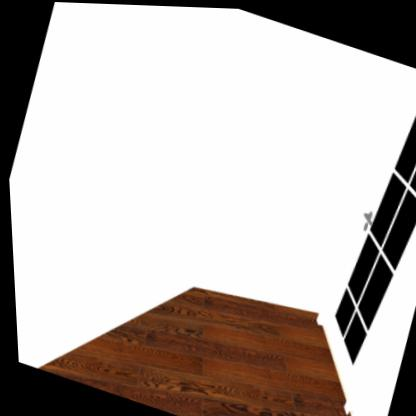Wooden floor: (33, 286, 346, 416)
